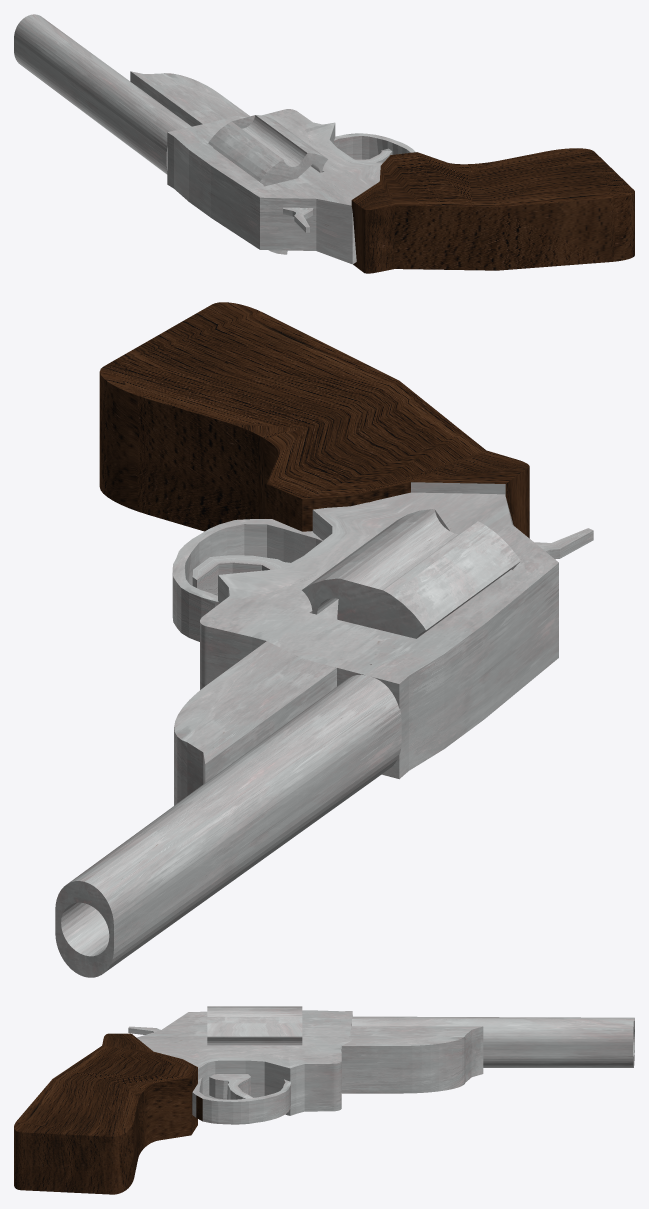
The model's file is Gun.fbx.
3 renders of one model, top to bottom at view 1: azimuth 30°, elevation 25°; view 2: azimuth 150°, elevation 25°; view 3: azimuth 270°, elevation 25°, orthographic. The views are drawn at different scales.
Visible parts, largest first — view 1: Handle; view 2: Handle; view 3: Handle.
Part boxes in pixels (x1,y1,x2,y2): Handle: [14, 14, 634, 273]; Handle: [55, 302, 593, 977]; Handle: [14, 1006, 634, 1194].
Bounding box in the file's own units: 24.35 × 7.57 × 48.54.
Materials: 2 (2 with a texture image).
